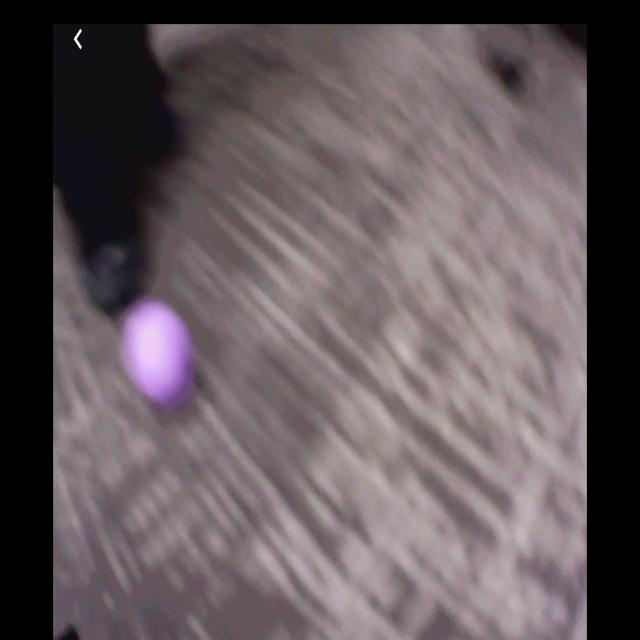ball: (120, 297, 197, 414)
